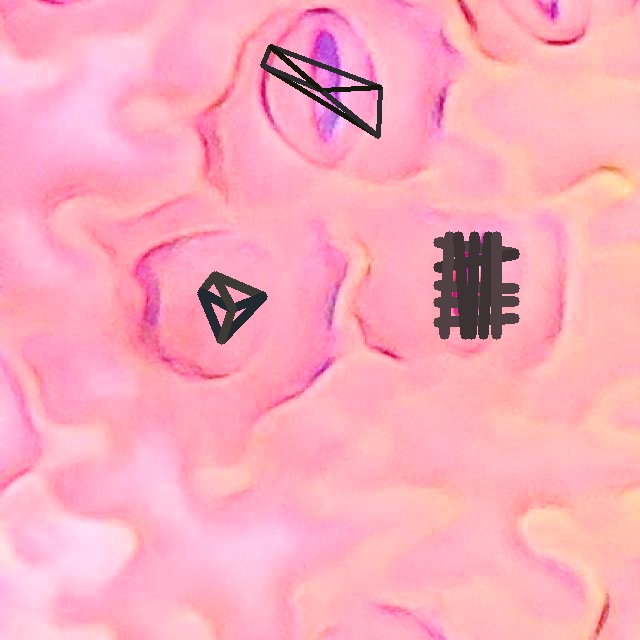close: (197, 271, 267, 344)
open: (261, 44, 381, 137), (433, 231, 518, 338)
